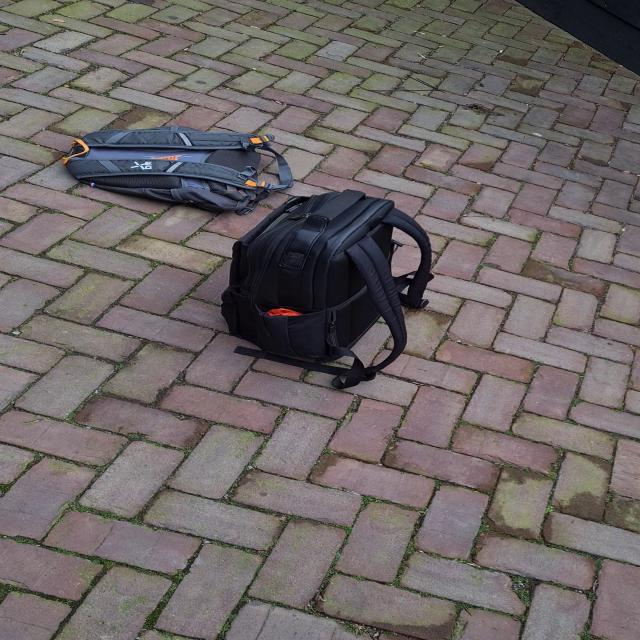backpack: (208, 183, 425, 366), (52, 122, 300, 214)
